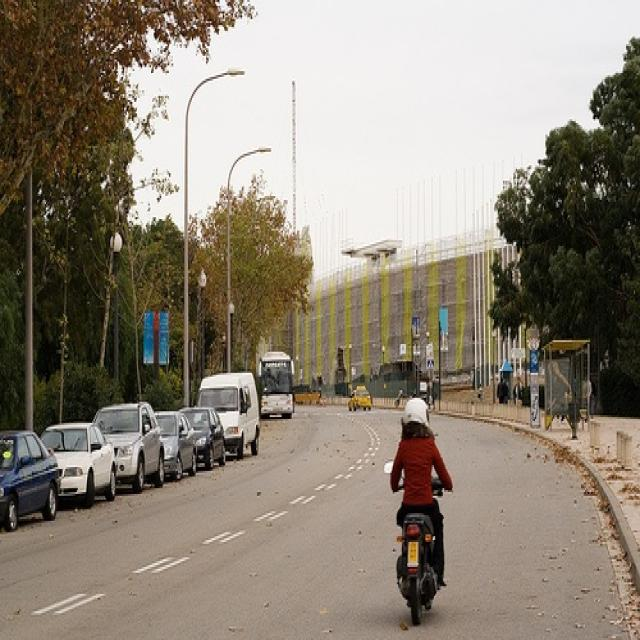bus: (260, 353, 298, 420)
car: (39, 422, 119, 506), (92, 401, 166, 491), (1, 430, 60, 532), (197, 374, 262, 460), (152, 411, 199, 484), (179, 406, 227, 470), (349, 384, 375, 416)
motorbike: (381, 459, 449, 630)
person: (390, 397, 450, 587)
